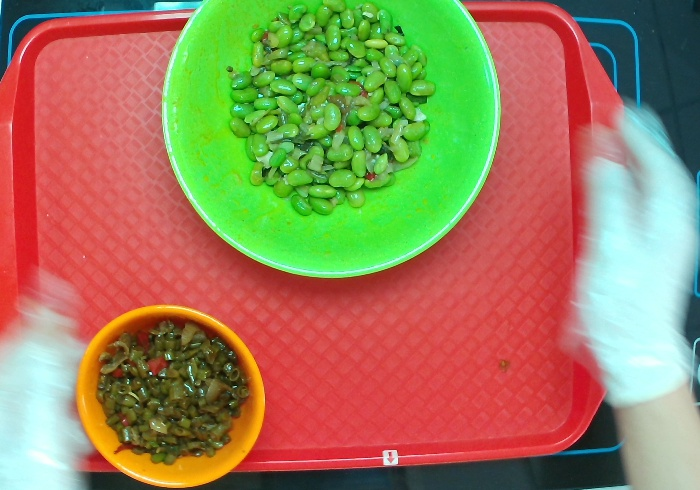YKMZ-Ju_Se_Yuan_Wan: (68, 301, 270, 486)
YKMZ-Lv_Se_Tang_Wan: (156, 1, 507, 286)
